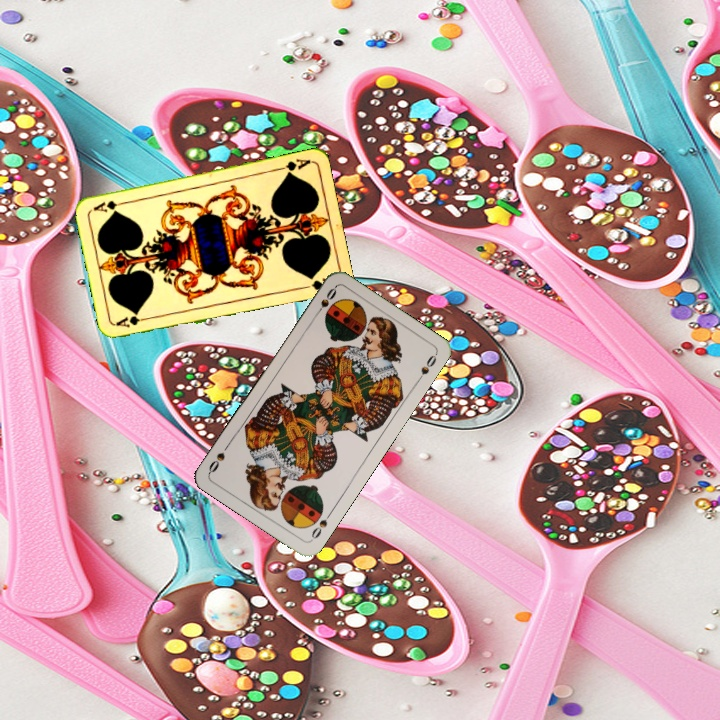GA: (273, 155, 313, 177), (112, 312, 153, 330)
SO: (307, 507, 335, 543), (311, 284, 339, 319)
